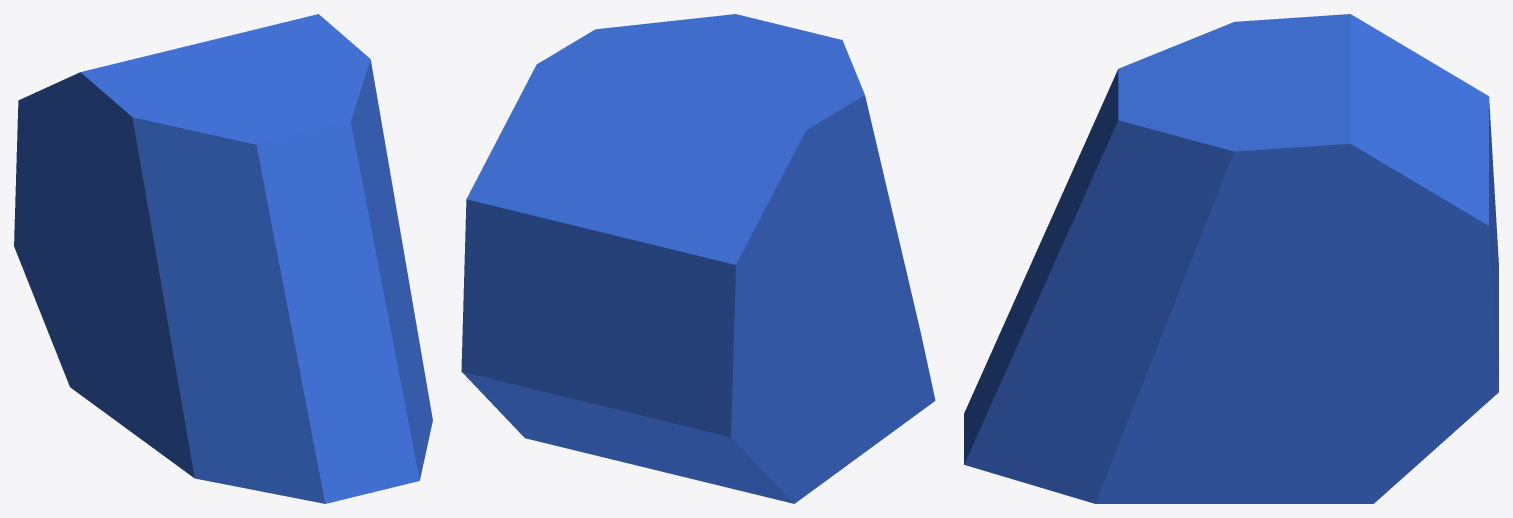
Rendered from Collision_Skull.fbx.
3 views of the same model, side by side, from view 1: azimuth 30°, elevation 25°; view 2: azimuth 150°, elevation 25°; view 3: azimuth 270°, elevation 25° (orthographic). The views are drawn at different scales.
Visible parts, largest first — view 1: UCX_Skull_1; view 2: UCX_Skull_1; view 3: UCX_Skull_1.
Part boxes in pixels (box(x1,y1,x2,y2)): UCX_Skull_1: box(14, 14, 432, 503); UCX_Skull_1: box(461, 14, 935, 503); UCX_Skull_1: box(964, 14, 1498, 503).
Bounding box in the file's own units: 15.27 × 19.76 × 26.58.
